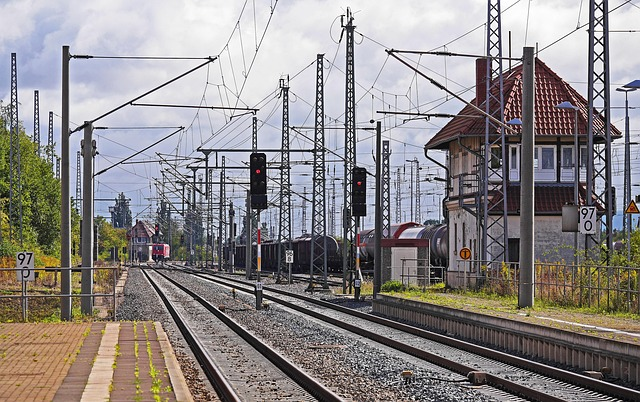voie1: (142, 270, 337, 400)
voie2: (201, 275, 636, 400)
